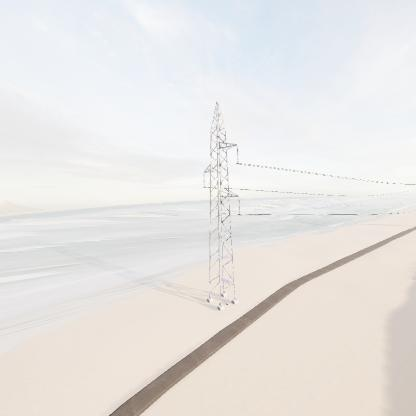tower: (196, 97, 244, 313)
